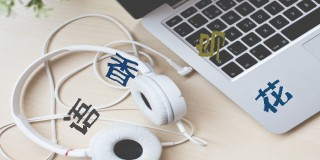花: (255, 79, 294, 114)
语: (63, 97, 100, 136)
香: (104, 51, 139, 87)
鸟: (194, 30, 226, 65)
